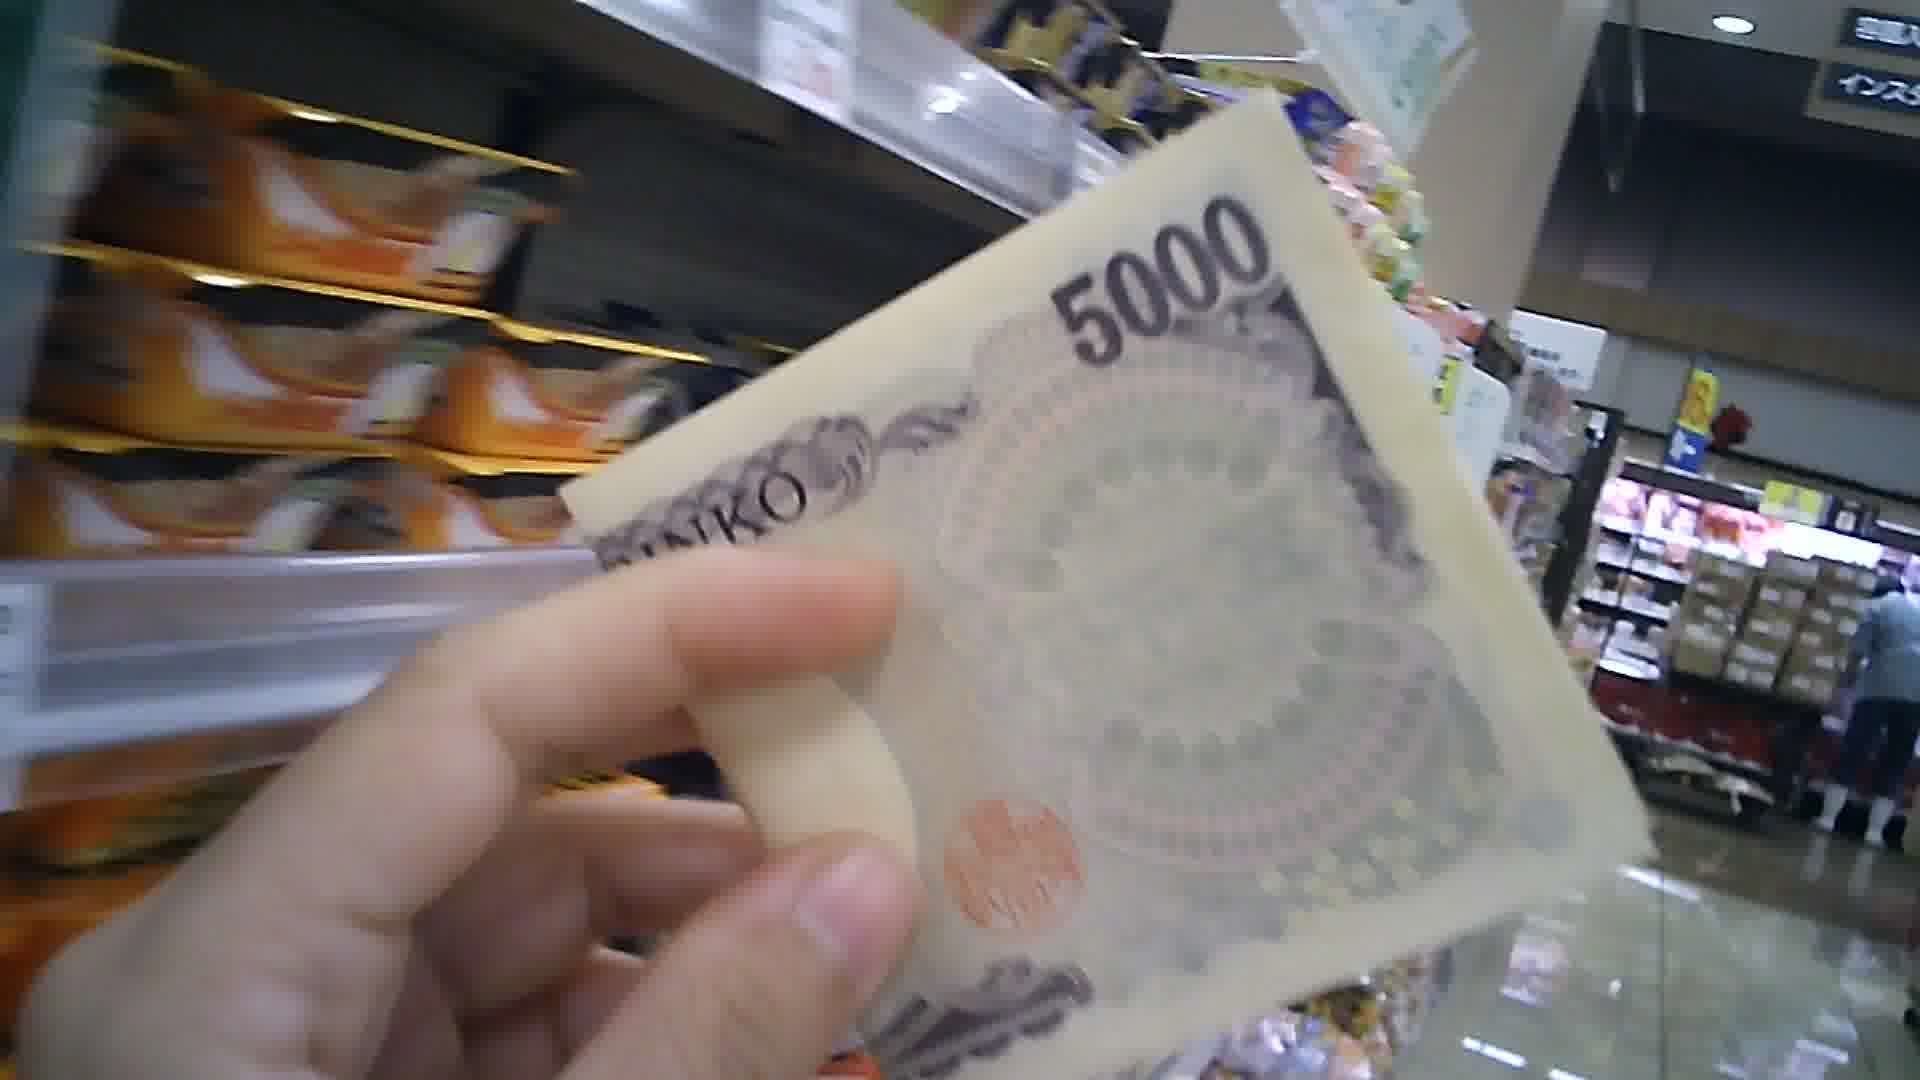5,000 Yen: (543, 76, 1642, 1079)
